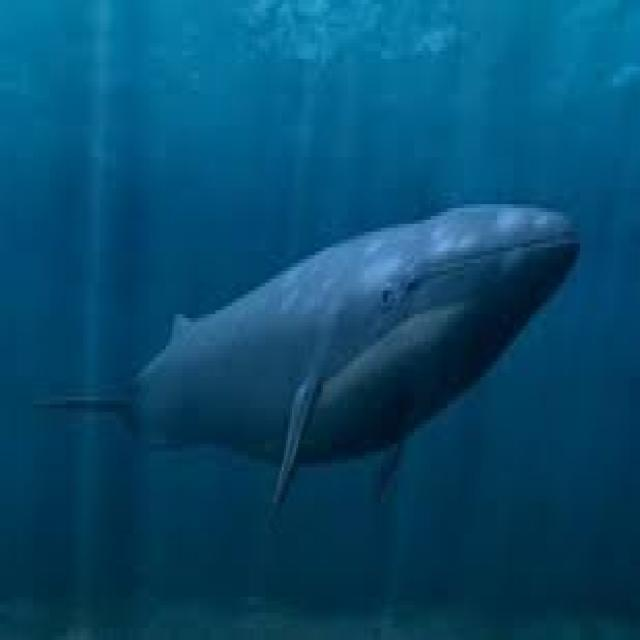blue_whale: (48, 137, 584, 601)
